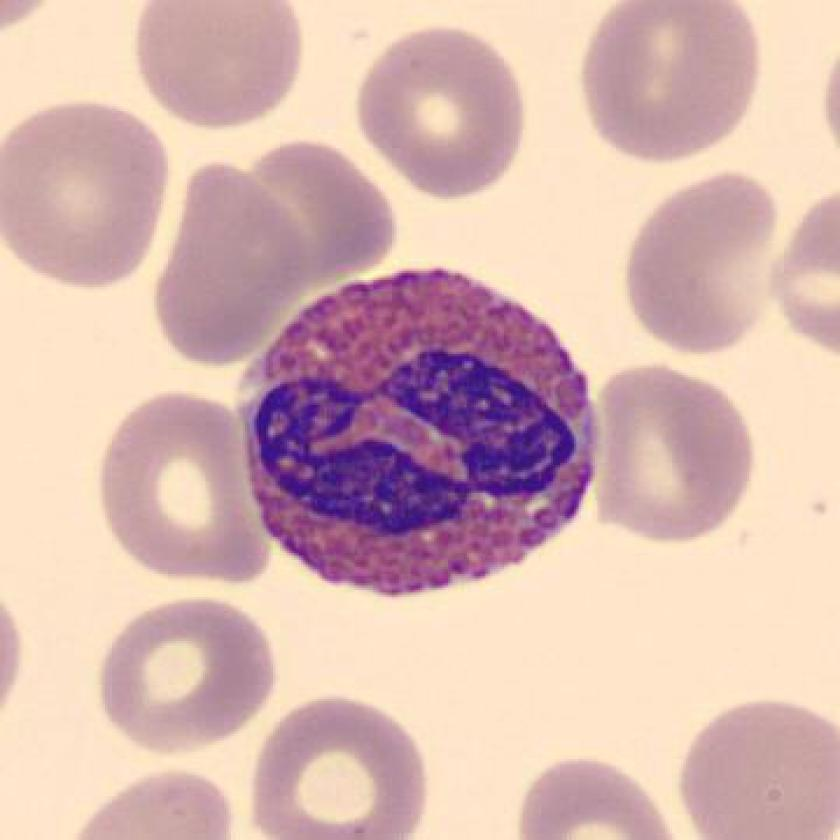eosinophil: (220, 263, 617, 614)
